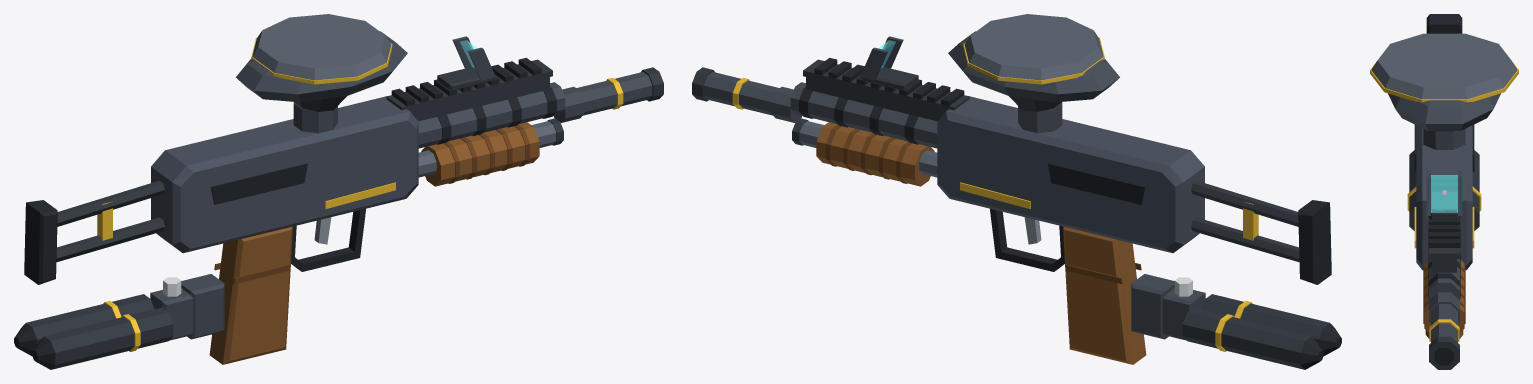
The model's file is shotgun_factory.glb.
The picture shows the model from 3 angles, left to right: view 1: azimuth 30°, elevation 25°; view 2: azimuth 150°, elevation 25°; view 3: azimuth 270°, elevation 25°; orthographic projection. The views are drawn at different scales.
Parts seen in each view (by area): view 1: shotgun_factory; view 2: shotgun_factory; view 3: shotgun_factory.
Part boxes in pixels (x1,y1,x2,y2): shotgun_factory: (14,14,663,369); shotgun_factory: (692,14,1341,369); shotgun_factory: (1370,14,1518,369).
Size of the model in its own units: 0.718 by 0.318 by 0.142.
